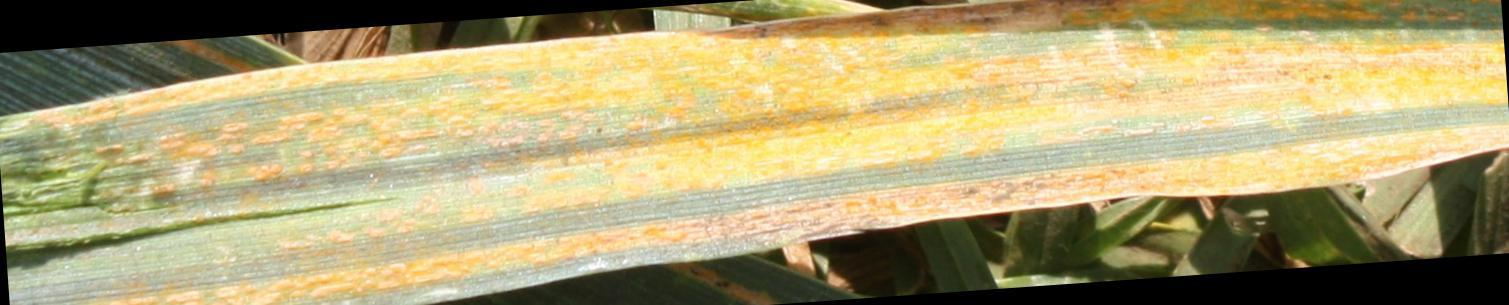Wheat: (563, 41, 1041, 209), (169, 65, 543, 191)
